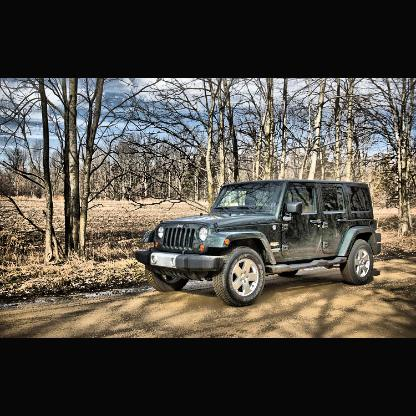Jeep Wrangler SUV 2012: (134, 178, 385, 309)
